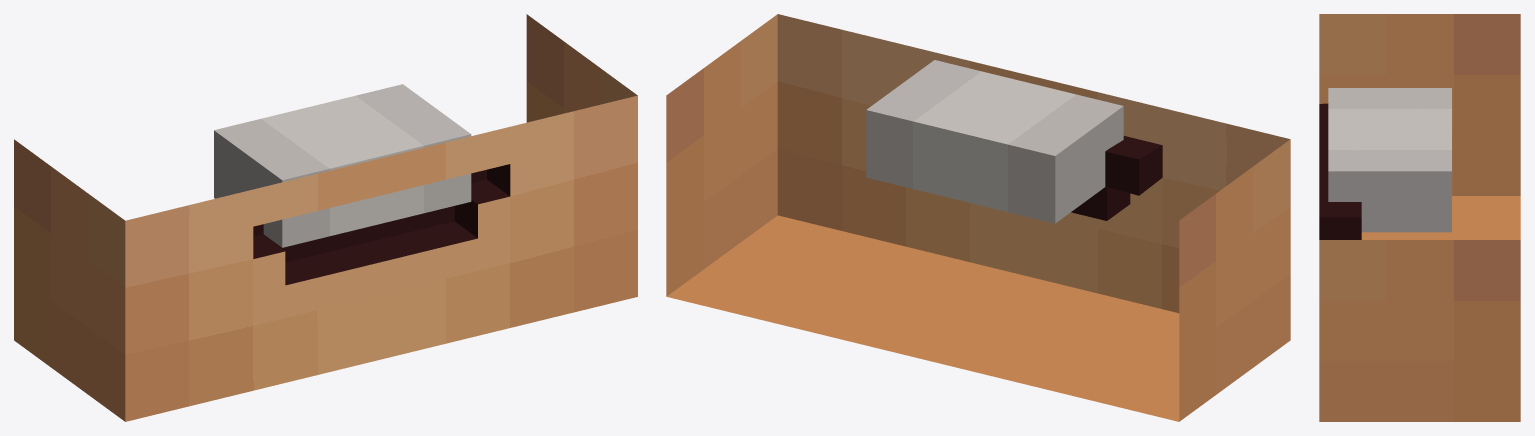
Rendered from skM1_jesse_mouthHappyB.glb.
3 views of the same model, side by side, from view 1: azimuth 30°, elevation 25°; view 2: azimuth 150°, elevation 25°; view 3: azimuth 270°, elevation 25° (orthographic). The views are drawn at different scales.
Parts seen in each view (by area): view 1: skM1_jesse; view 2: skM1_jesse; view 3: skM1_jesse.
Boxes of the visible parts, x1,y1,x2,y2 form: skM1_jesse: (14,14,637,421); skM1_jesse: (666,14,1290,421); skM1_jesse: (1319,14,1520,421).
Bounding box in the file's own units: 0.5012 × 0.1883 × 0.1885.
Materials: 1 (1 with a texture image).
